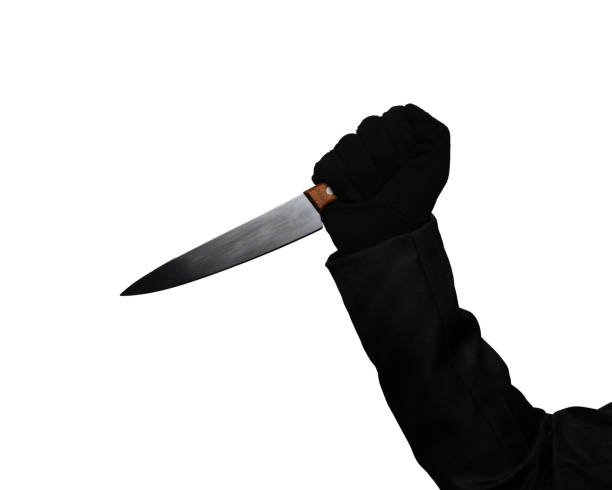knife: (117, 179, 339, 297)
